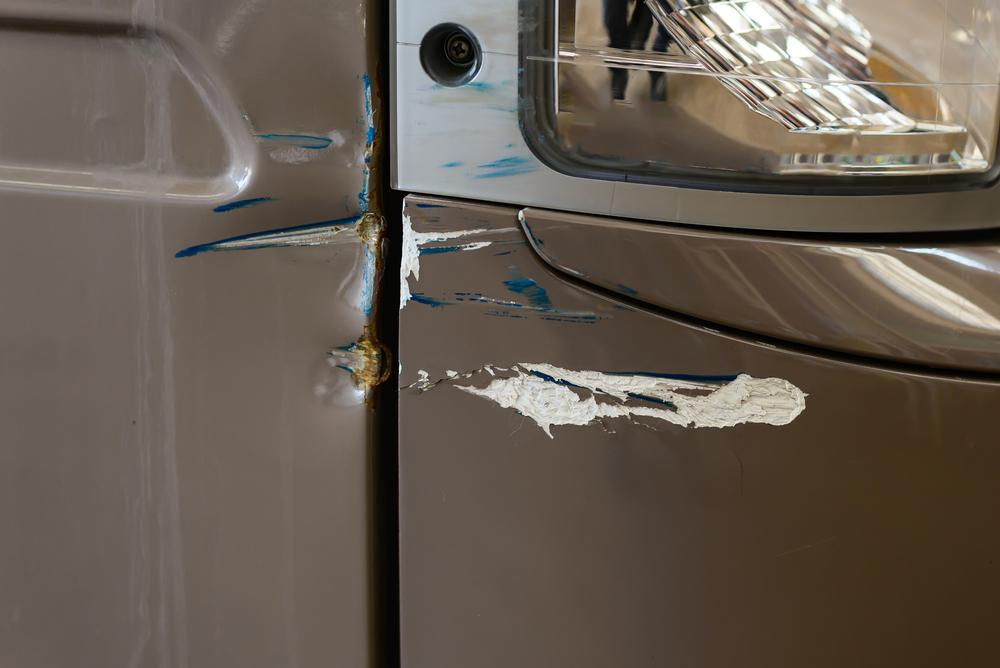dent: (223, 191, 381, 404)
scratch: (398, 196, 822, 445), (168, 66, 376, 263), (433, 72, 538, 187)
